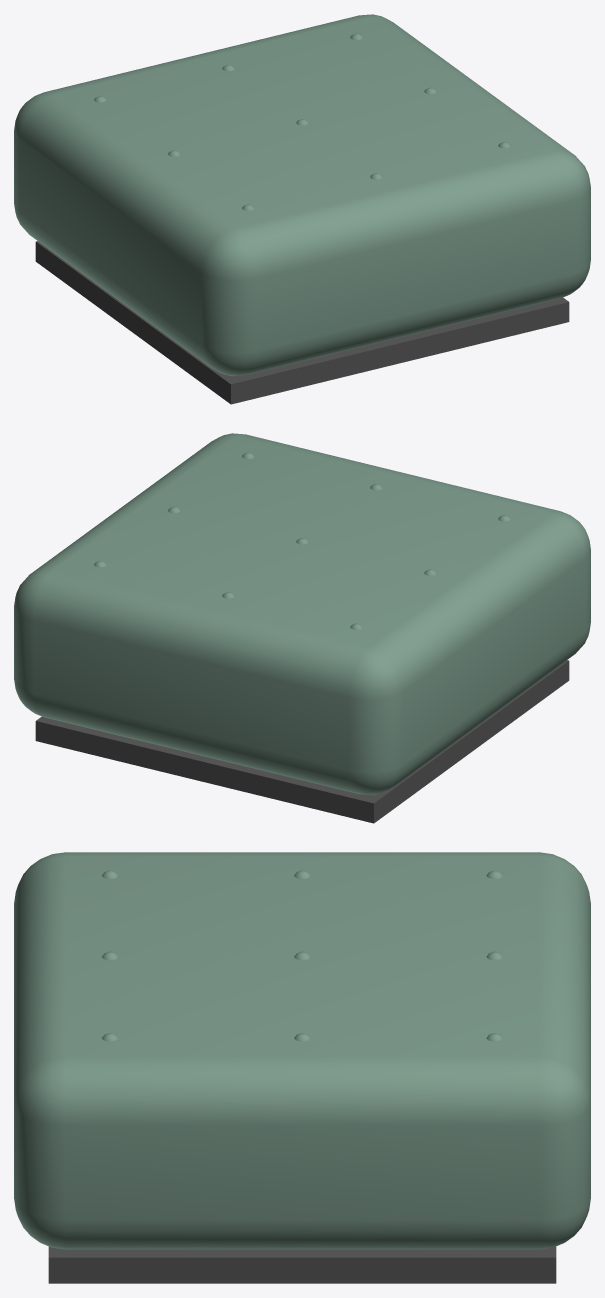
Rendered from it_ottoman.glb.
3 renders of one model, top to bottom at view 1: azimuth 30°, elevation 25°; view 2: azimuth 150°, elevation 25°; view 3: azimuth 270°, elevation 25°, orthographic. The views are drawn at different scales.
Parts seen in each view (by area): view 1: body, plinth; view 2: body, plinth; view 3: body, plinth.
Part boxes in pixels (left/top/right/bottom): body: left=14, top=14, right=590, bottom=376; plinth: left=35, top=241, right=569, bottom=404; body: left=14, top=433, right=590, bottom=795; plinth: left=35, top=660, right=569, bottom=823; body: left=14, top=852, right=590, bottom=1249; plinth: left=48, top=1246, right=556, bottom=1283.
Bounding box in the file's own units: 1 × 0.428 × 1.
